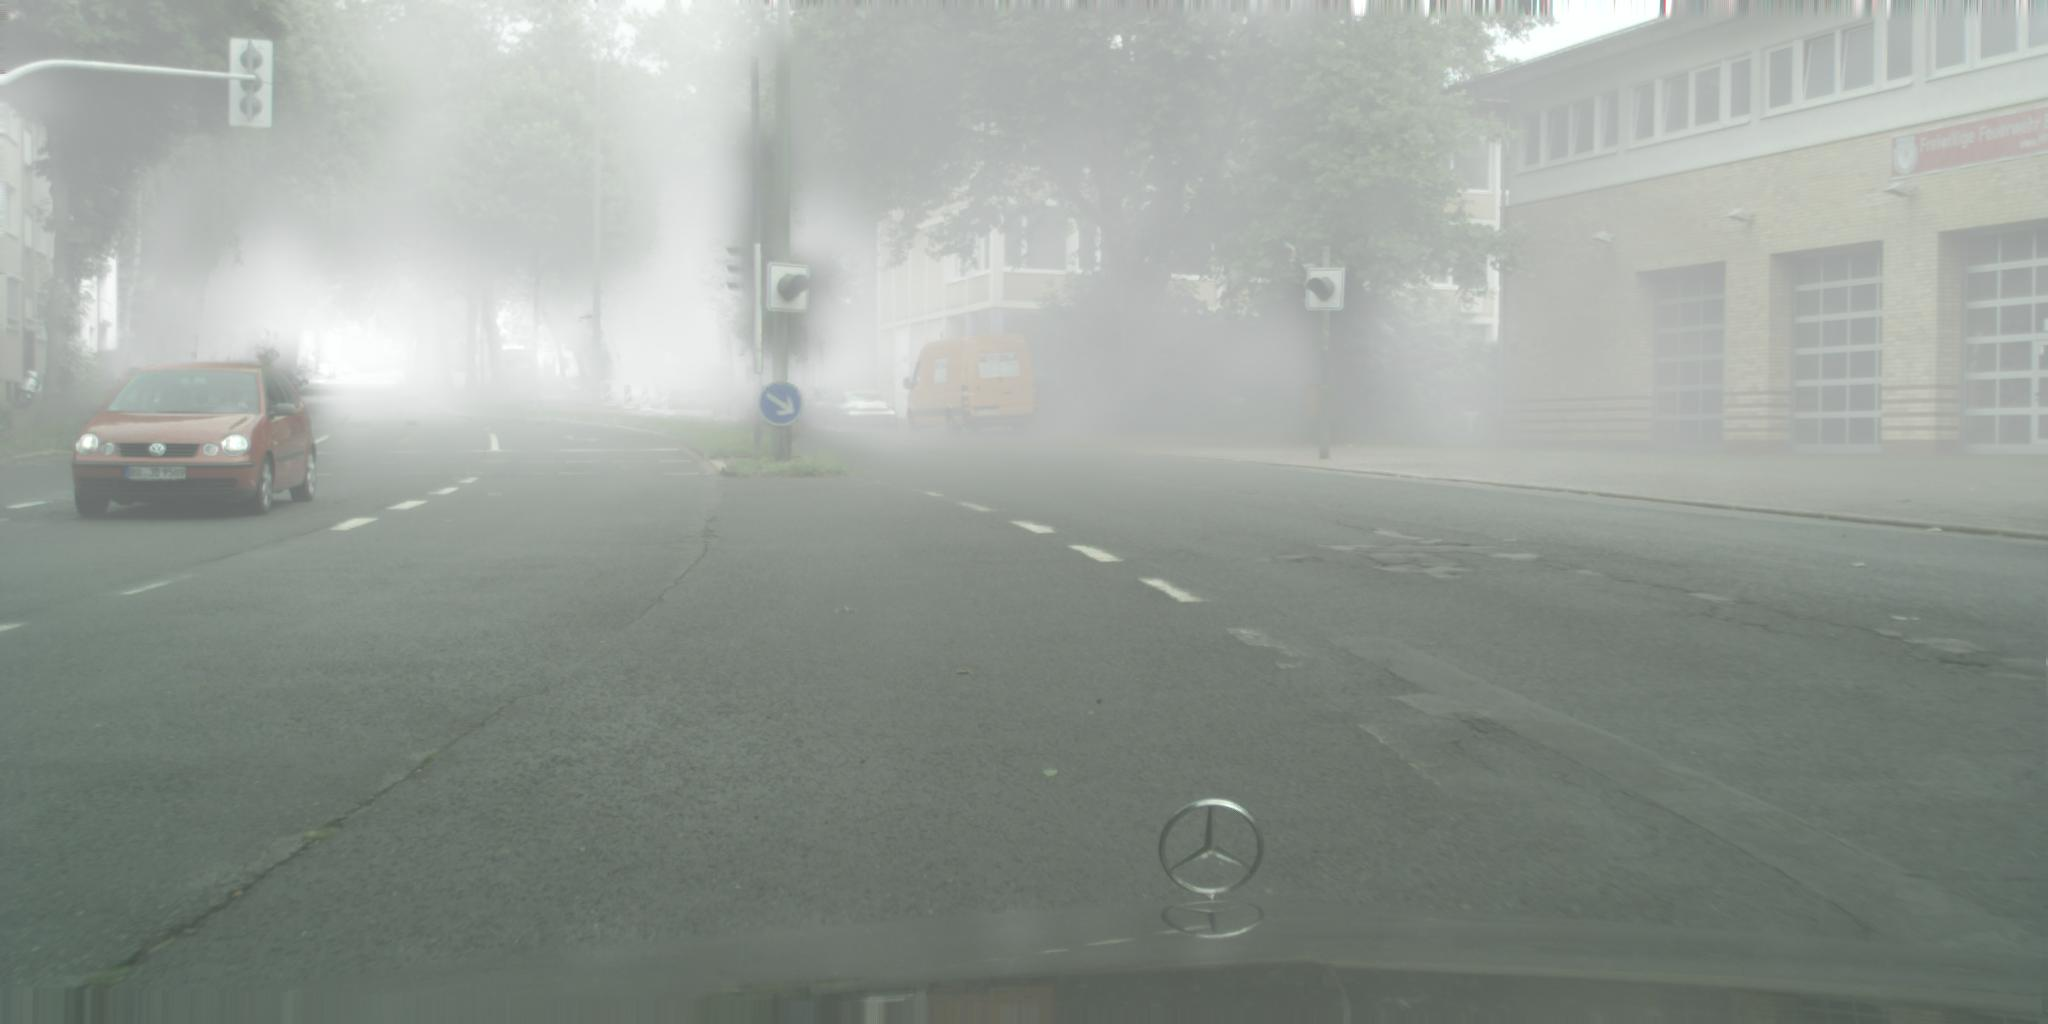car: (73, 362, 317, 520), (903, 333, 1038, 440), (822, 389, 900, 432), (782, 387, 852, 428), (504, 344, 536, 394), (121, 367, 150, 401), (539, 375, 572, 401), (285, 372, 306, 394), (294, 366, 310, 387), (317, 363, 333, 379), (327, 364, 338, 379), (341, 363, 351, 375), (346, 367, 357, 375)
motorcycle: (16, 370, 42, 411)
